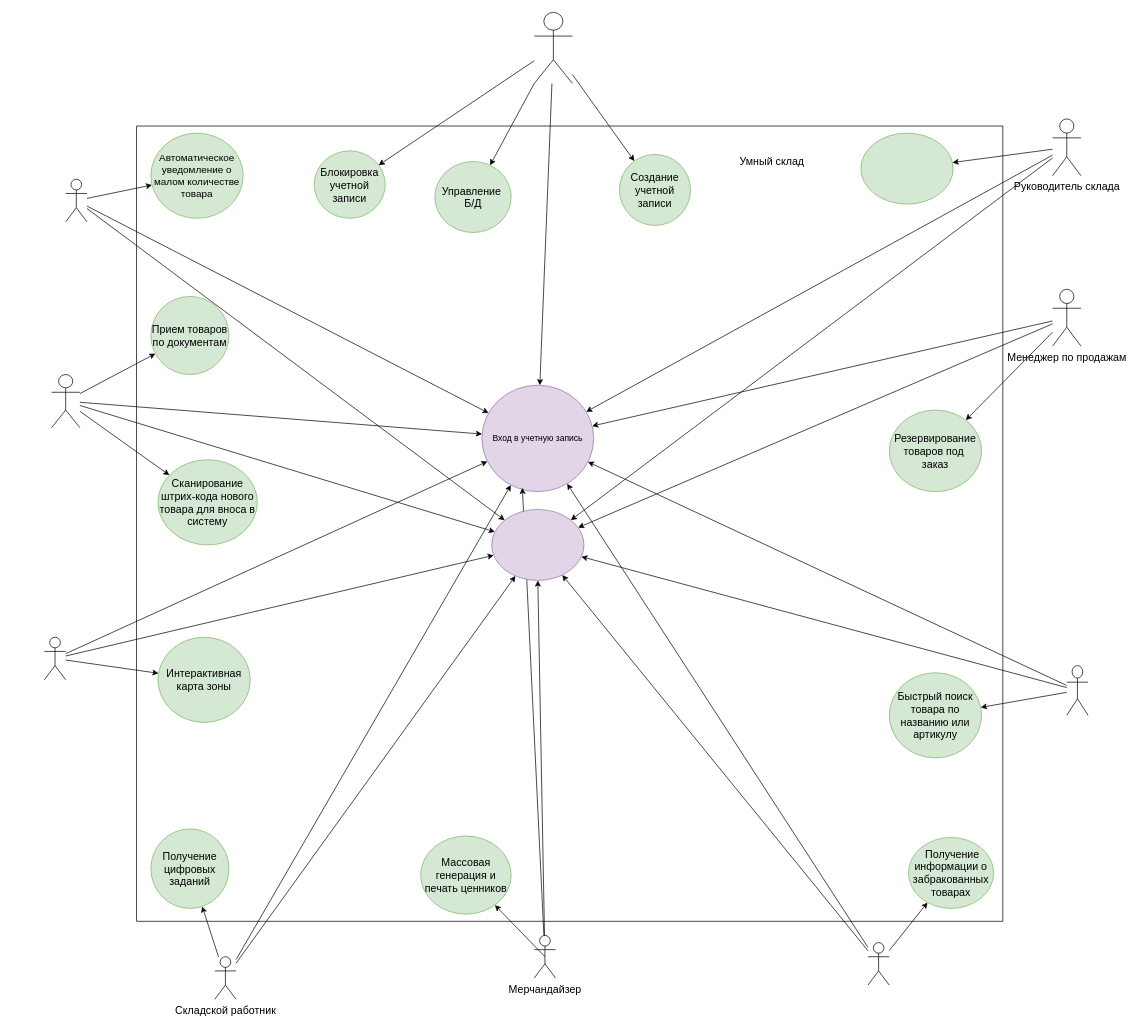
Some shapes in this 1139 by 1030 pixel diagram are drawn without their labels. Each missing label, with the centre of its shape:
"Восстановление пароля" goes at point 537,544.
"Ежедневный отчет об остатках" goes at point 906,168.
"Контролер качества" goes at point 878,963.
"Менеджер по запасам" goes at point 76,200.
"Новый сотрудник" goes at point 55,658.
"Сис.Админ" goes at point 553,47.
"Складской оператор" goes at point 65,401.
"Складской сборщик" goes at point 1077,690.
